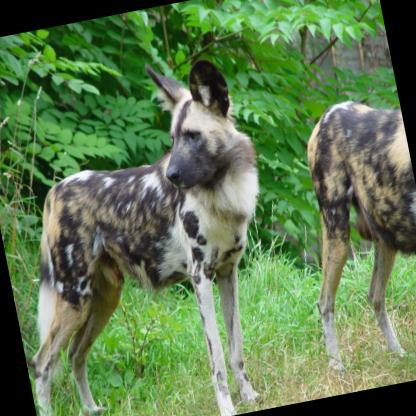African_hunting_dog: (0, 44, 307, 416), (275, 84, 416, 378)
